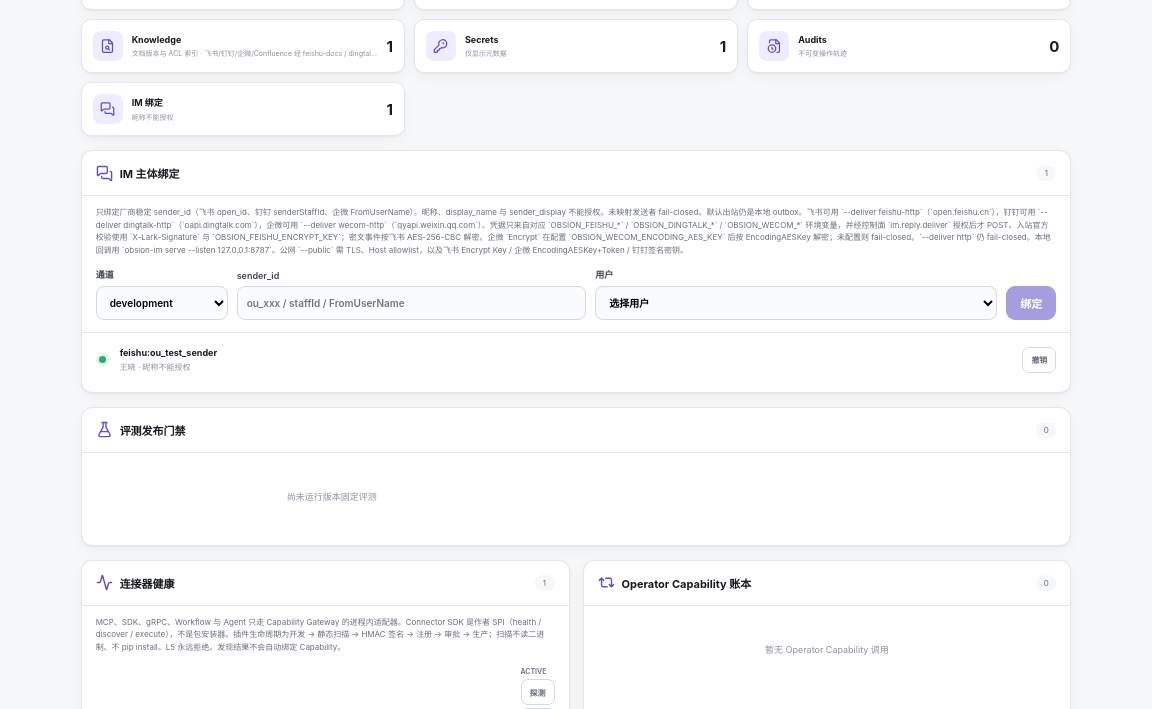
Test: AdminView interactions › revokes an active IM binding and removes it from the refreshed projection
Expected: the text "feishu:ou_test_sender" is shown, [120, 348, 217, 358]
Click the button "撤销".
click(1039, 360)  # box [1022, 347, 1056, 373]
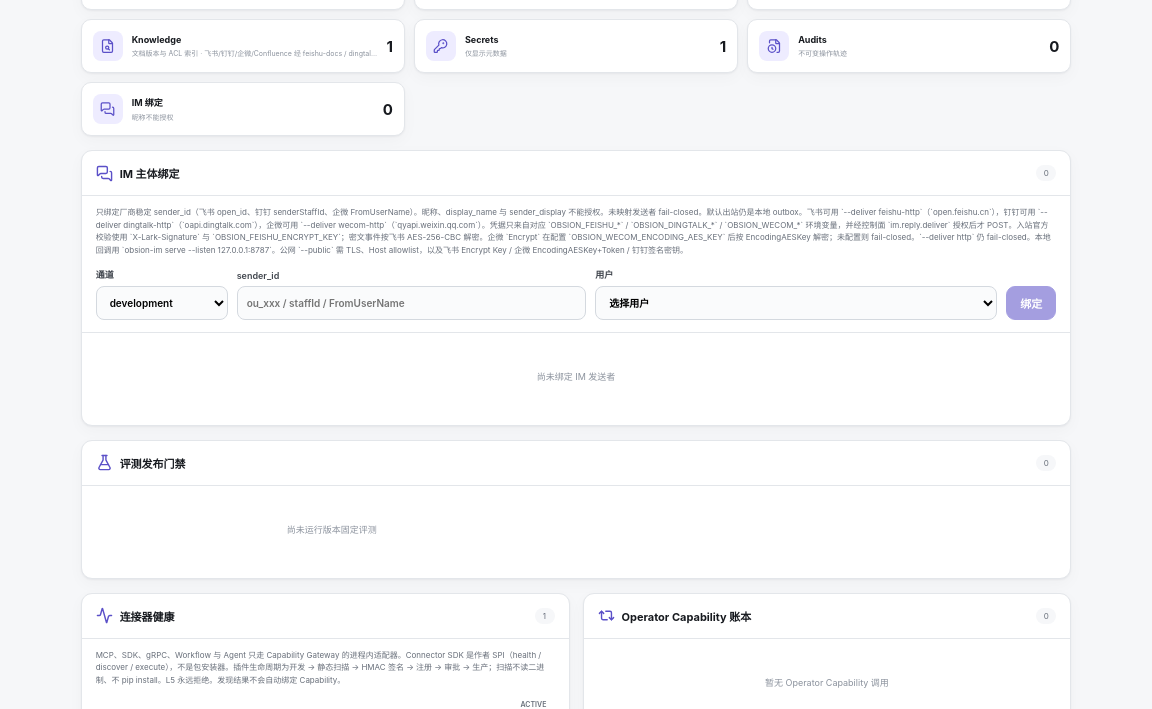
Result: the text "尚未绑定 IM 发送者" is shown at [537, 371, 615, 382]
